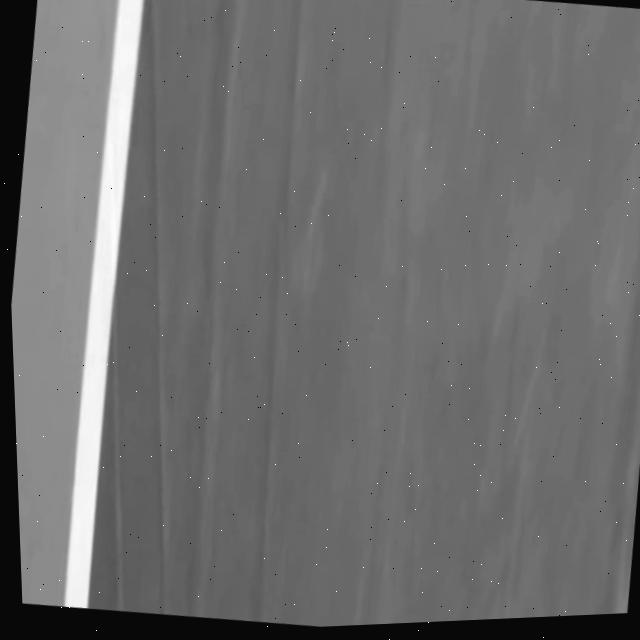right: (65, 0, 143, 608)
